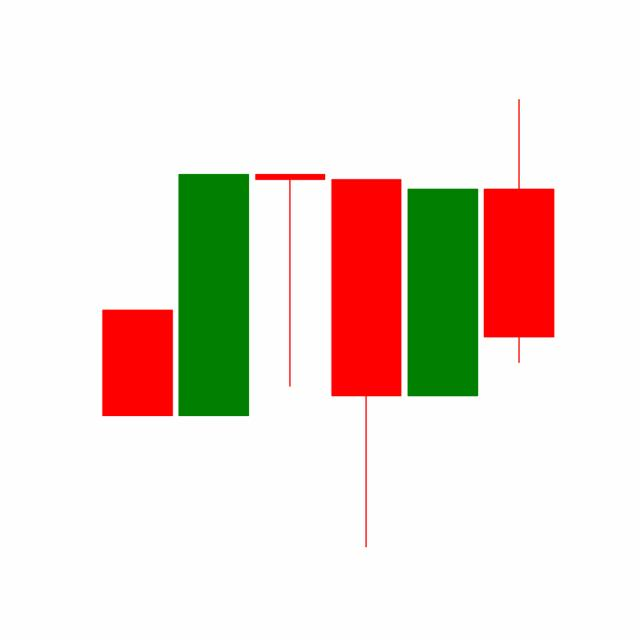Marubozu: (403, 185, 481, 398)
